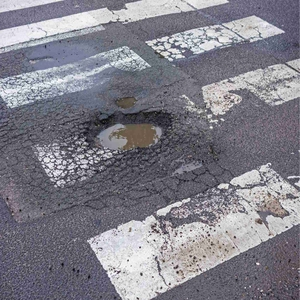pothole: (80, 110, 177, 158)
